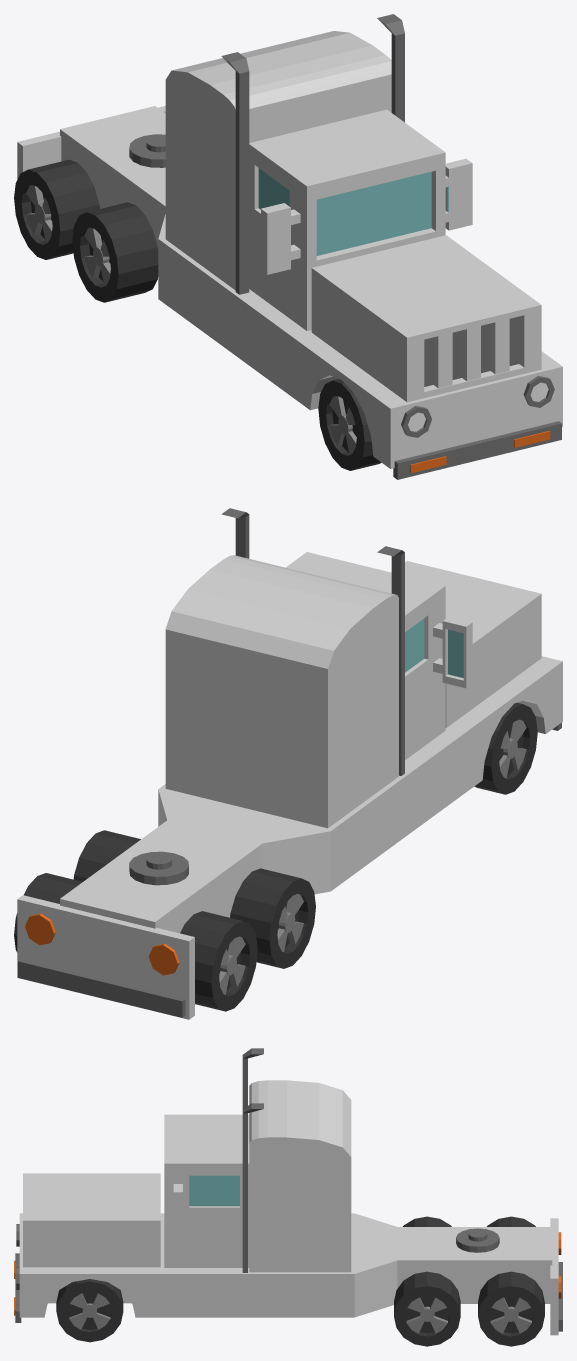
File: AmericanTruck.fbx
The picture shows the model from 3 angles, top to bottom: view 1: azimuth 30°, elevation 25°; view 2: azimuth 150°, elevation 25°; view 3: azimuth 270°, elevation 25°; orthographic projection. The views are drawn at different scales.
Parts seen in each view (by area): view 1: MainColor, Main, RLeftTire.003, RLeftTire.004, FRightTire; view 2: MainColor, Main, RLeftTire.003, RLeftTire.004, FRightTire, RLeftTire.1, RLeftTire.2; view 3: MainColor, Main, RLeftTire.1, RLeftTire.2, FLeftTire.
Part boxes in pixels (left/top/right/bottom): MainColor: left=17, top=31, right=562, bottom=468; Main: left=129, top=14, right=561, bottom=479; RLeftTire.003: left=72, top=202, right=158, bottom=302; RLeftTire.004: left=14, top=159, right=99, bottom=259; FRightTire: left=318, top=379, right=381, bottom=470; MainColor: left=17, top=552, right=562, bottom=1019; Main: left=18, top=508, right=561, bottom=1017; RLeftTire.003: left=230, top=868, right=315, bottom=968; RLeftTire.004: left=180, top=911, right=257, bottom=1011; FRightTire: left=474, top=702, right=537, bottom=794; RLeftTire.1: left=73, top=830, right=140, bottom=881; RLeftTire.2: left=14, top=873, right=82, bottom=952; MainColor: left=19, top=1080, right=558, bottom=1335; Main: left=14, top=1048, right=562, bottom=1331; RLeftTire.1: left=394, top=1271, right=460, bottom=1346; RLeftTire.2: left=478, top=1271, right=544, bottom=1346; FLeftTire: left=56, top=1279, right=123, bottom=1342.
Size of the model in its own units: 173 by 261 by 557.
